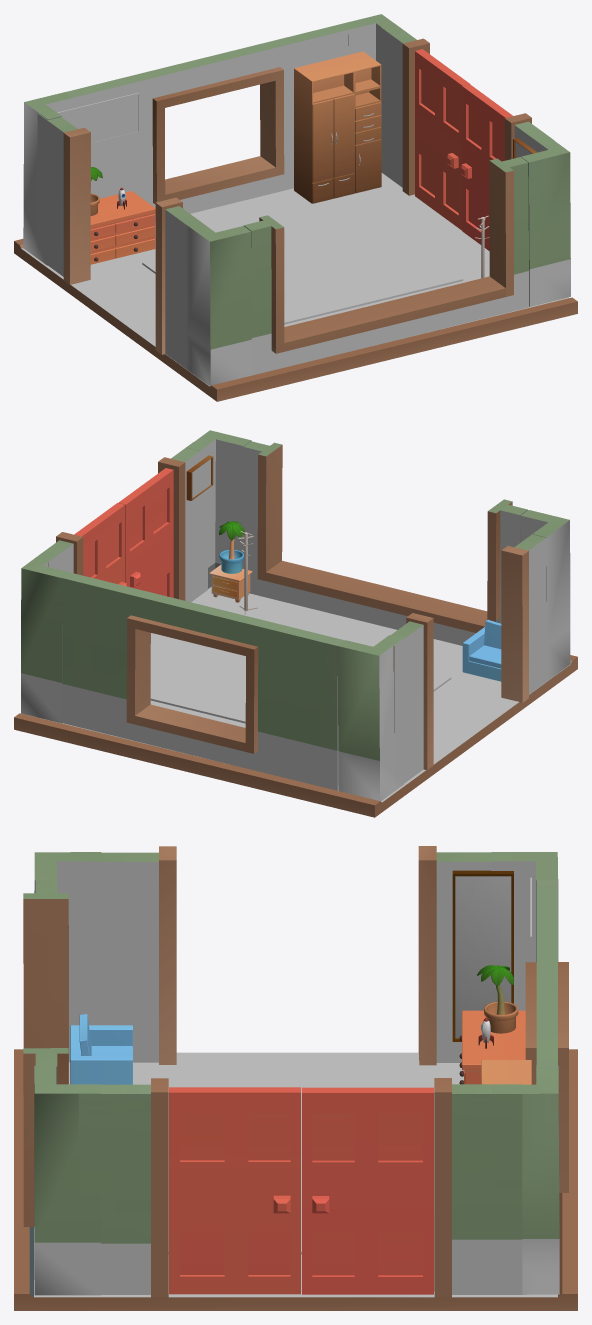
The model's file is ENTRADA completa color VERDE.fbx.
The picture shows the model from 3 angles, top to bottom: view 1: azimuth 30°, elevation 25°; view 2: azimuth 150°, elevation 25°; view 3: azimuth 270°, elevation 25°; orthographic projection. The views are drawn at different scales.
Parts seen in each view (by area): view 1: suelo, paret_ventana1, paret_con_ventana_grande, fombra, armario, paret_esquina_3, paret_con_borde2, puerta_dob_2, paret_esquina2, paret_doblepuerta, paret_con_borde1, puerta_dob__1 (+4 smaller); view 2: paret_ventana1, suelo, paret_con_ventana_grande, paret_esquina_4, paret_con_borde1, paret_esquina, paret_con_borde2, paret_doblepuerta, fombra, puerta_dob__1, paret_esquina_3, paret_esquina2 (+5 smaller); view 3: paret_doblepuerta, puerta_dob_2, puerta_dob__1, suelo, paret_con_borde1, paret_esquina2, paret_con_ventana_grande, paret_esquina, paret_con_borde2, espejo, paret_ventana1, paret_esquina_4 (+5 smaller).
Boxes of the visible parts, box(x1,y1,x2,y2) form: suelo: box(14, 173, 577, 401); paret_ventana1: box(66, 23, 350, 221); paret_con_ventana_grande: box(243, 157, 528, 375); fombra: box(142, 208, 463, 324); armario: box(294, 51, 381, 203); paret_esquina_3: box(186, 221, 251, 386); paret_con_borde2: box(37, 113, 90, 284); puerta_dob_2: box(415, 49, 469, 230); paret_esquina2: box(521, 135, 570, 306); paret_doblepuerta: box(380, 27, 554, 195); paret_con_borde1: box(155, 197, 205, 368); puerta_dob__1: box(461, 84, 512, 250); paret_ventana1: box(61, 572, 344, 790); suelo: box(14, 586, 577, 817); paret_con_ventana_grande: box(242, 441, 527, 645); paret_esquina_4: box(337, 635, 403, 801); paret_con_borde1: box(501, 529, 546, 702); paret_esquina: box(21, 551, 67, 723); paret_con_borde2: box(391, 613, 433, 783); paret_doblepuerta: box(45, 442, 207, 602); fombra: box(150, 644, 451, 723); puerta_dob__1: box(118, 468, 173, 597); paret_esquina_3: box(520, 510, 570, 681); paret_esquina2: box(186, 430, 251, 588); paret_doblepuerta: box(79, 1078, 522, 1297); puerta_dob_2: box(302, 1087, 433, 1294); puerta_dob__1: box(169, 1087, 300, 1294); suelo: box(14, 1049, 577, 1310); paret_con_borde1: box(77, 846, 176, 1064); paret_esquina2: box(34, 1065, 100, 1295); paret_con_ventana_grande: box(23, 880, 68, 1226); paret_esquina: box(492, 1065, 559, 1294); paret_con_borde2: box(418, 846, 517, 1065); espejo: box(452, 870, 513, 1041); paret_ventana1: box(525, 880, 568, 1192); paret_esquina_4: box(491, 852, 558, 1010).
Bounding box in the file's own units: 878 × 363 × 841.
